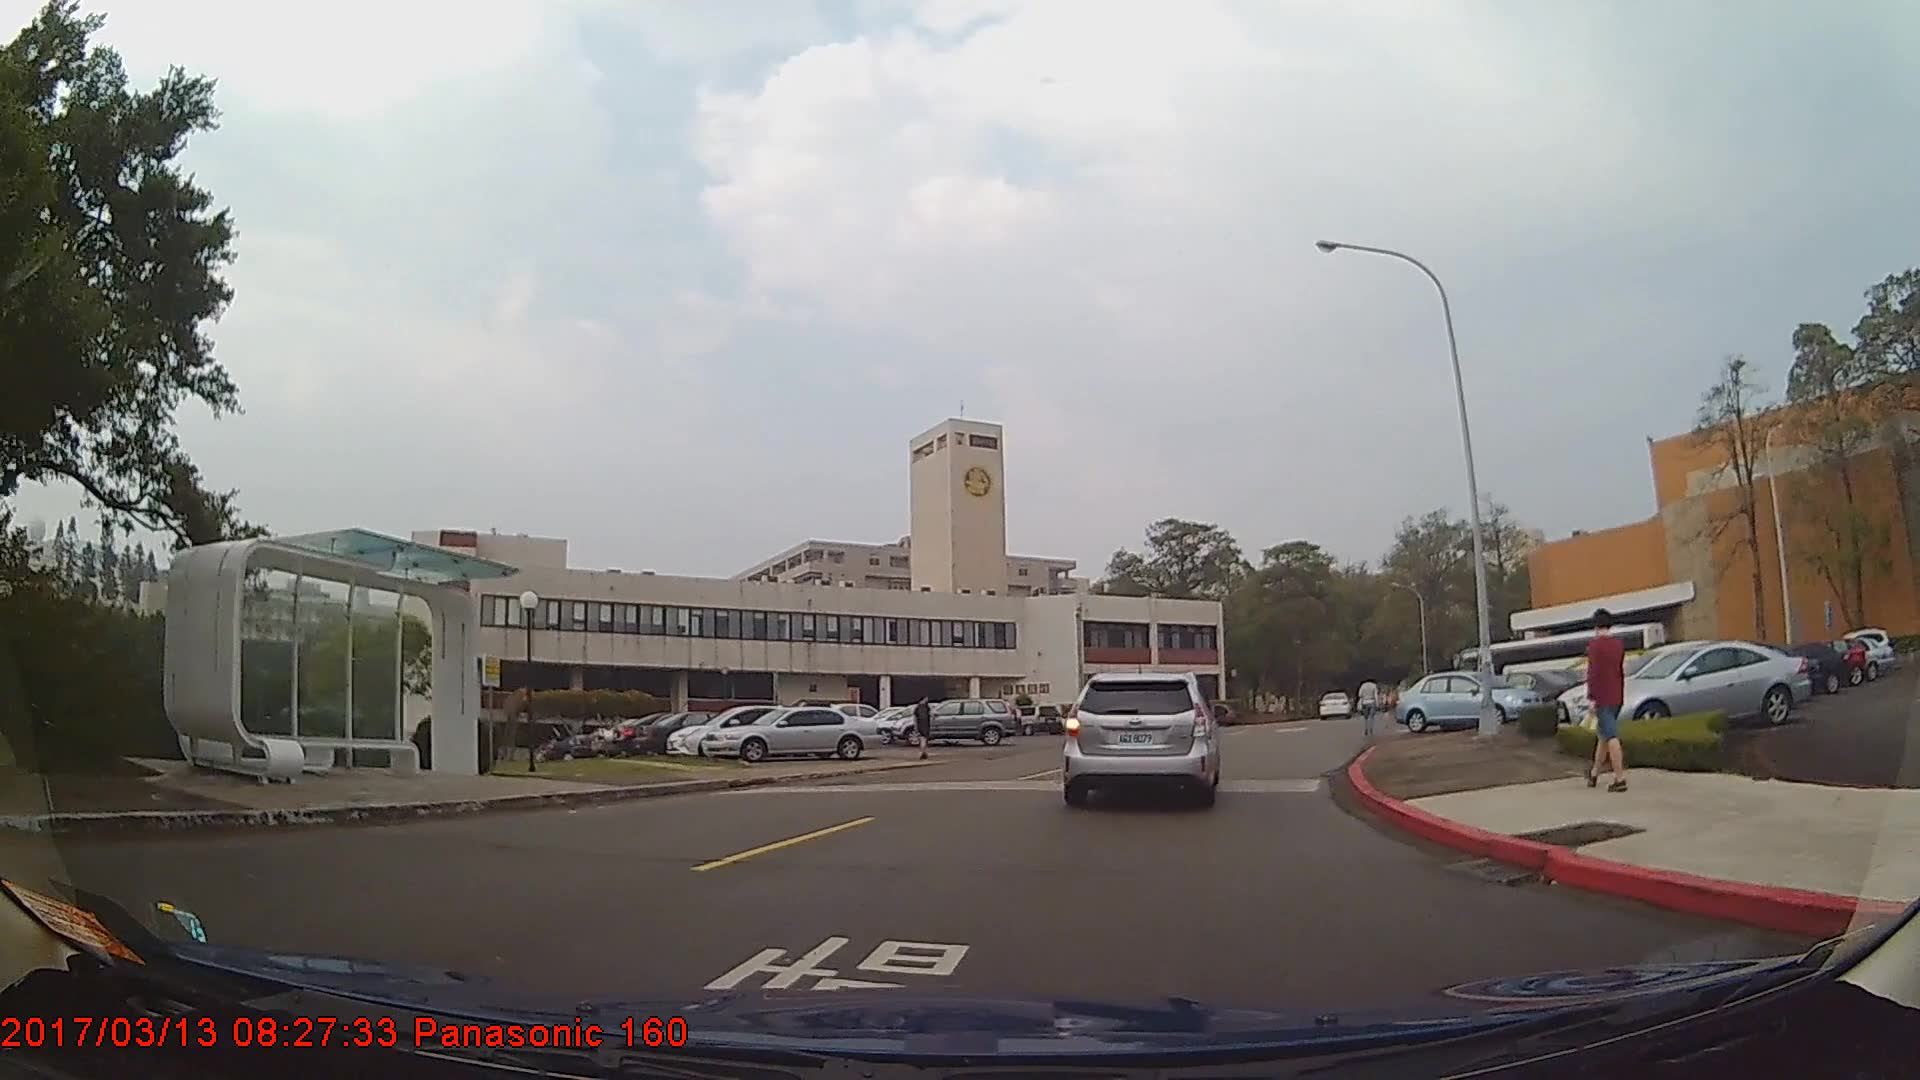pedestrian: (1580, 608, 1636, 801), (911, 694, 938, 764), (1357, 672, 1384, 736)
vehicle: (1064, 668, 1219, 810), (1583, 639, 1811, 731), (1555, 639, 1775, 732), (700, 705, 880, 760), (1391, 666, 1540, 730), (661, 703, 838, 757), (1735, 639, 1850, 693), (631, 707, 750, 758), (889, 697, 1017, 744), (1317, 687, 1351, 719)
